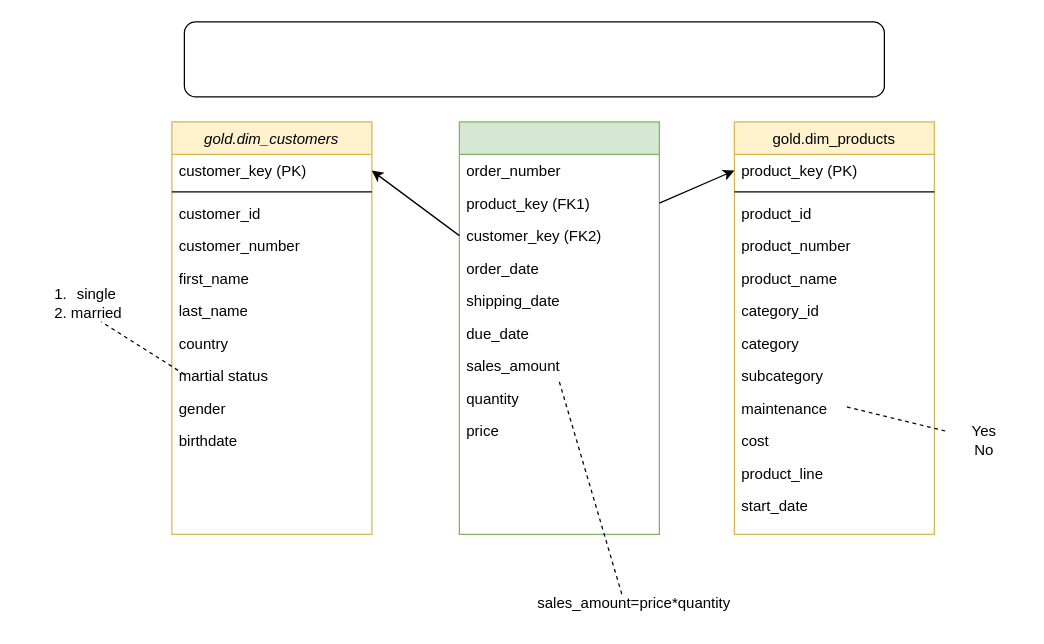
Image size: 1044x644. Some labels were removed from this diagram. Each missing label, with the box of its shape:
gold.fact_sales: (458, 121, 659, 534)
Sales Data Mart ( Star Schema): (183, 21, 884, 97)
